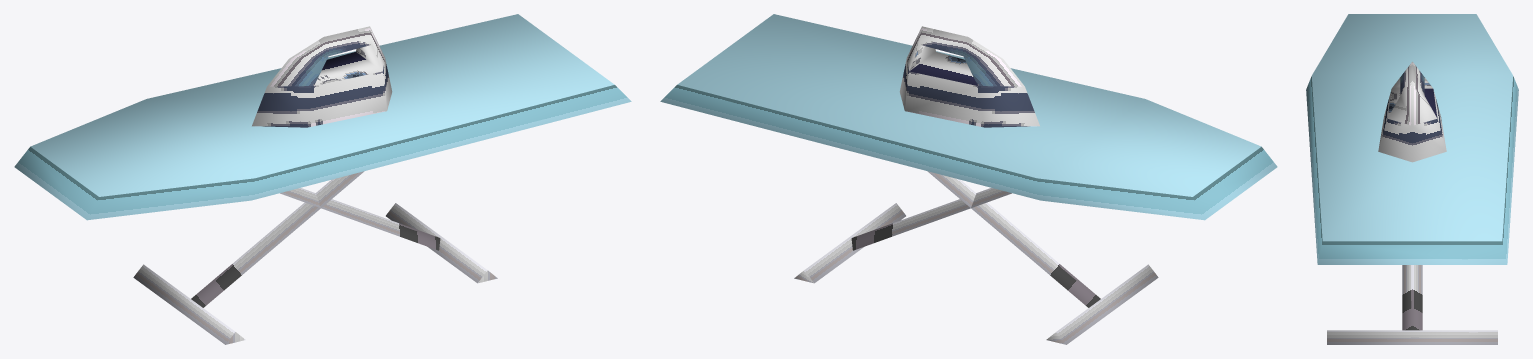
The picture shows the model from 3 angles, left to right: view 1: azimuth 30°, elevation 25°; view 2: azimuth 150°, elevation 25°; view 3: azimuth 270°, elevation 25°; orthographic projection. The views are drawn at different scales.
Visible parts, largest first — view 1: 3534IMEL01_35; view 2: 3534IMEL01_35; view 3: 3534IMEL01_35.
Part boxes in pixels (x1,y1,x2,y2): 3534IMEL01_35: (14, 14, 631, 344); 3534IMEL01_35: (660, 14, 1277, 344); 3534IMEL01_35: (1306, 14, 1518, 344).
Bounding box in the file's own units: 1.86 × 0.8022 × 0.6948.
Materials: 3 (3 with a texture image).
